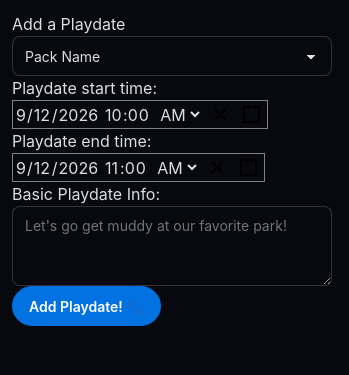
Scenario: refuses to submit without a pack, and says so
The width and height of the screenshot is (349, 375).
Click the button "Add Playdate! 🐾" at {"x": 86, "y": 306}, box [12,286,161,326]
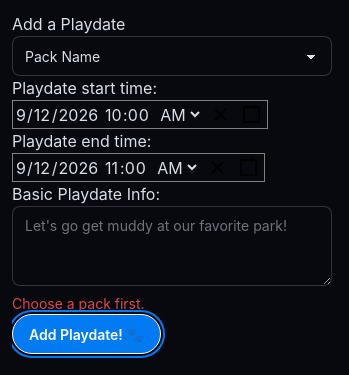
Check: the text "Choose a pack first." is shown, box [12,295,145,312]
